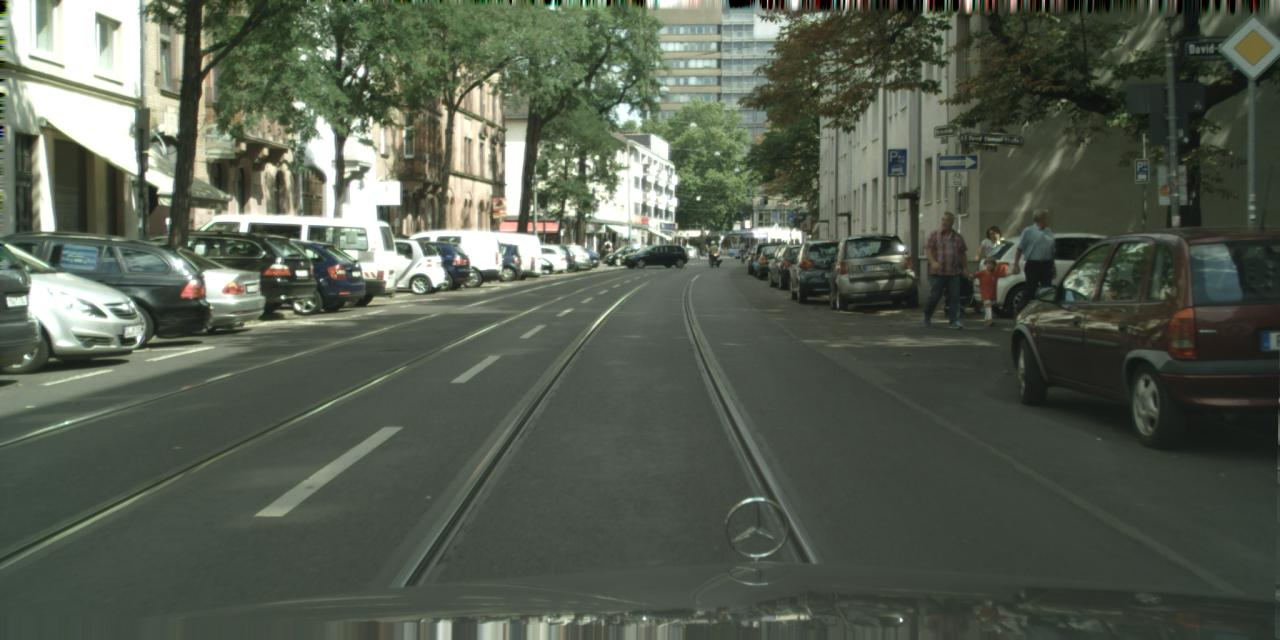ped: (919, 212, 967, 328), (1014, 210, 1061, 327), (977, 226, 1009, 305), (974, 257, 1002, 327), (708, 240, 718, 262), (603, 239, 611, 260), (738, 241, 745, 259), (685, 242, 689, 255), (704, 244, 708, 255)
